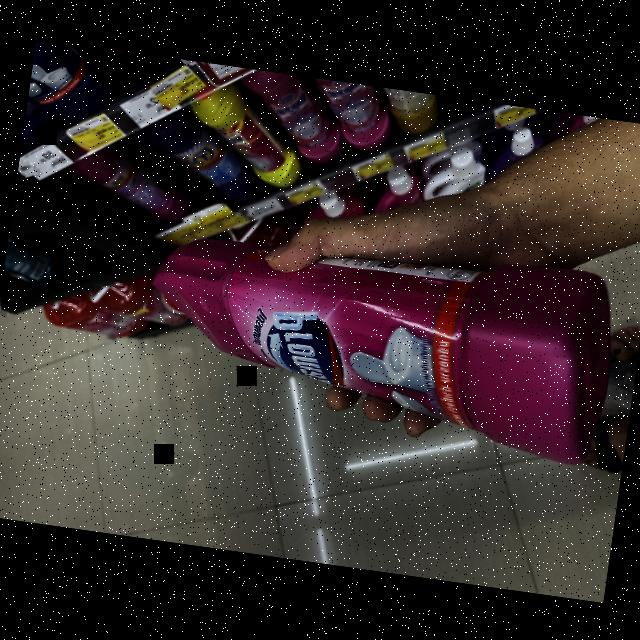chemical_plastic_bottle: (127, 206, 625, 468)
